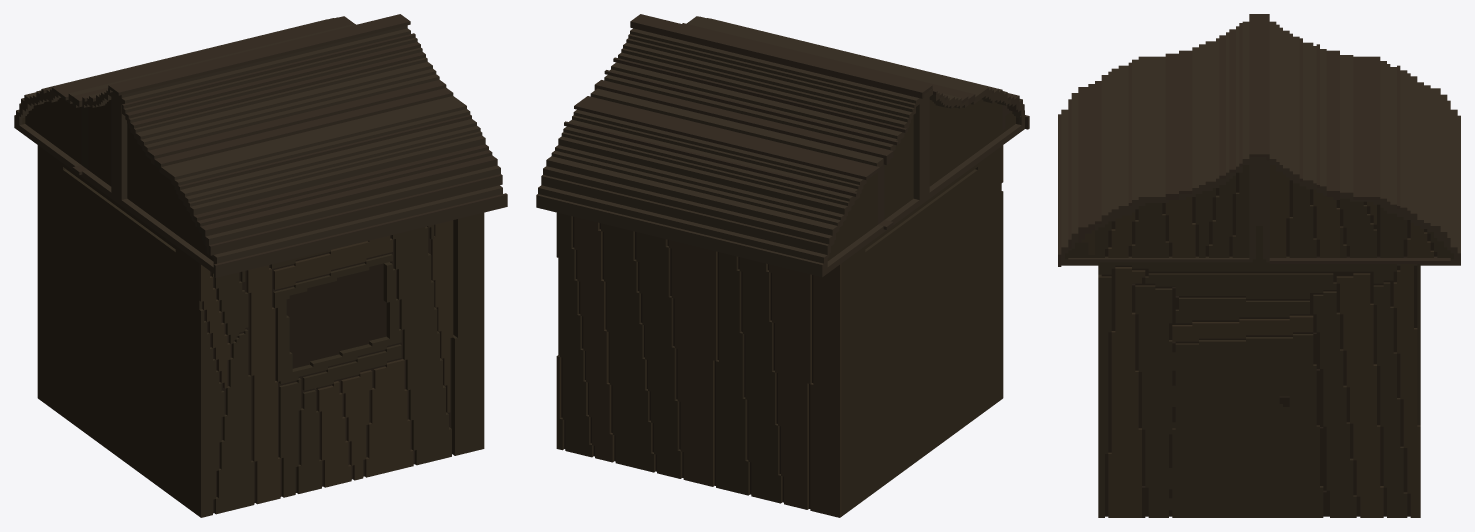
File: Small_House.obj
The picture shows the model from 3 angles, left to right: view 1: azimuth 30°, elevation 25°; view 2: azimuth 150°, elevation 25°; view 3: azimuth 270°, elevation 25°; orthographic projection.
Size of the model in its own units: 9.9 by 12 by 12.
Materials: 1 (1 with a texture image).
